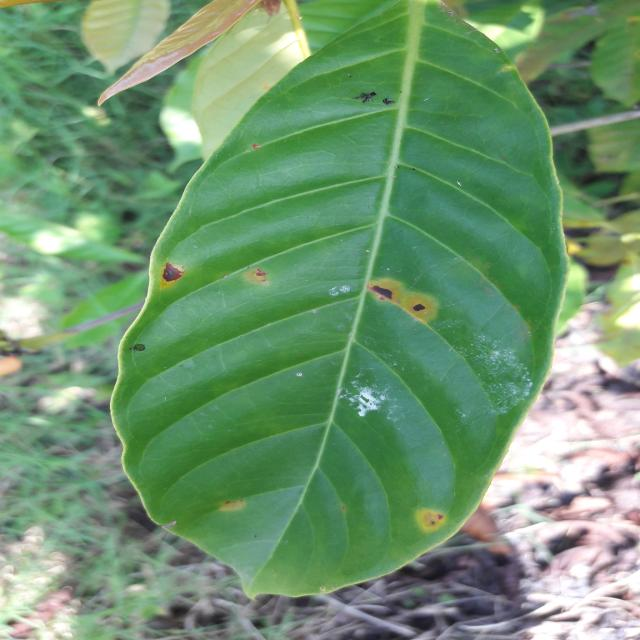Enfermedad-Roya: (109, 0, 570, 602)
